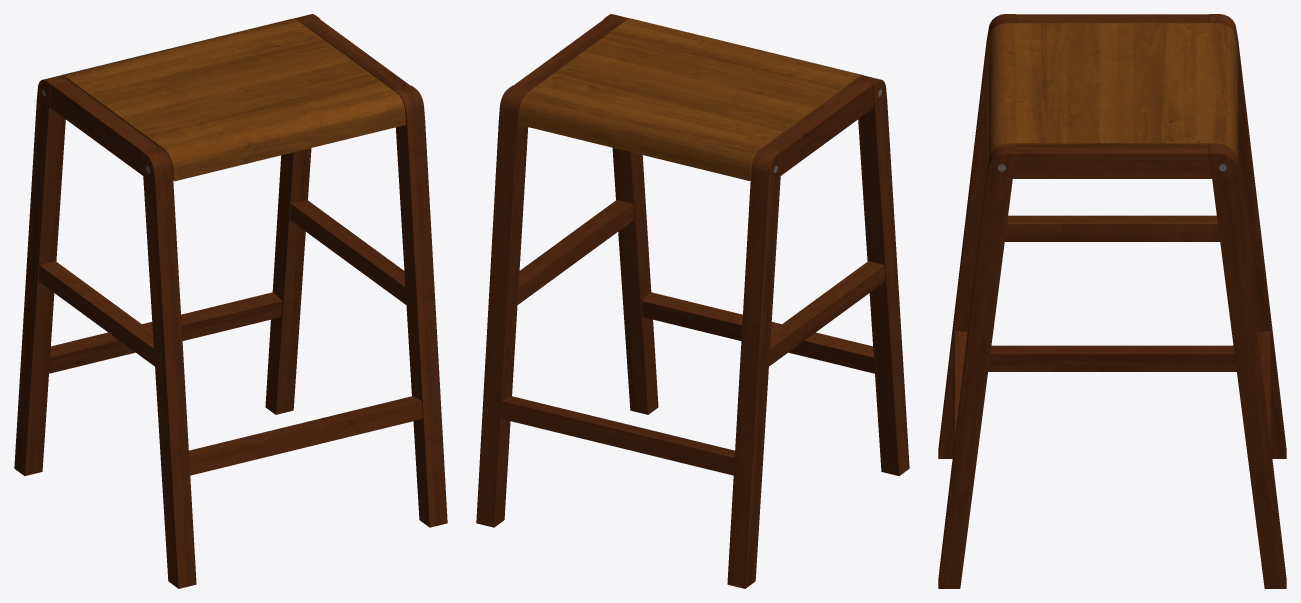
File: chair_44.001.fbx
3 renders of one model, left to right at view 1: azimuth 30°, elevation 25°; view 2: azimuth 150°, elevation 25°; view 3: azimuth 270°, elevation 25°, orthographic. The views are drawn at different scales.
Visible parts, largest first — view 1: chair_44.001; view 2: chair_44.001; view 3: chair_44.001.
Boxes of the visible parts, x1=… form: chair_44.001: x1=14, y1=14, x2=447, y2=588; chair_44.001: x1=476, y1=14, x2=909, y2=588; chair_44.001: x1=938, y1=14, x2=1286, y2=588.
Bounding box in the file's own units: 41.05 × 59.83 × 43.29.
1 material, 1 textured.
